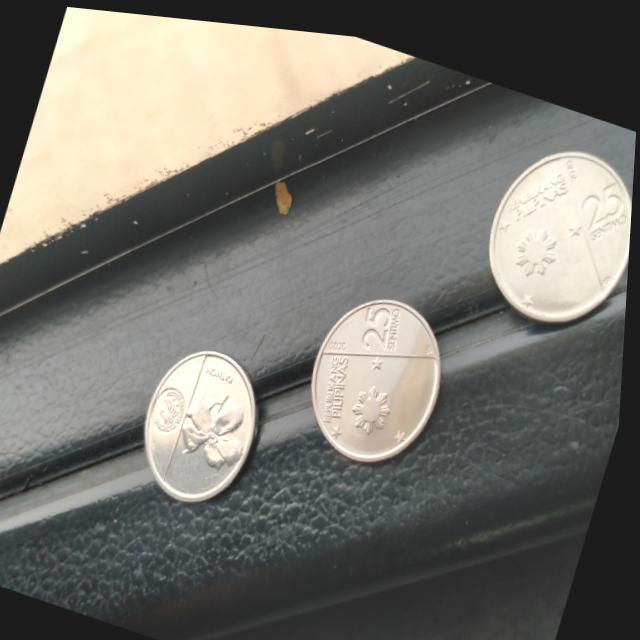25Cent_New_Back: (172, 373, 258, 476)
25Cent_New_Front: (352, 286, 424, 364), (569, 159, 635, 240)
